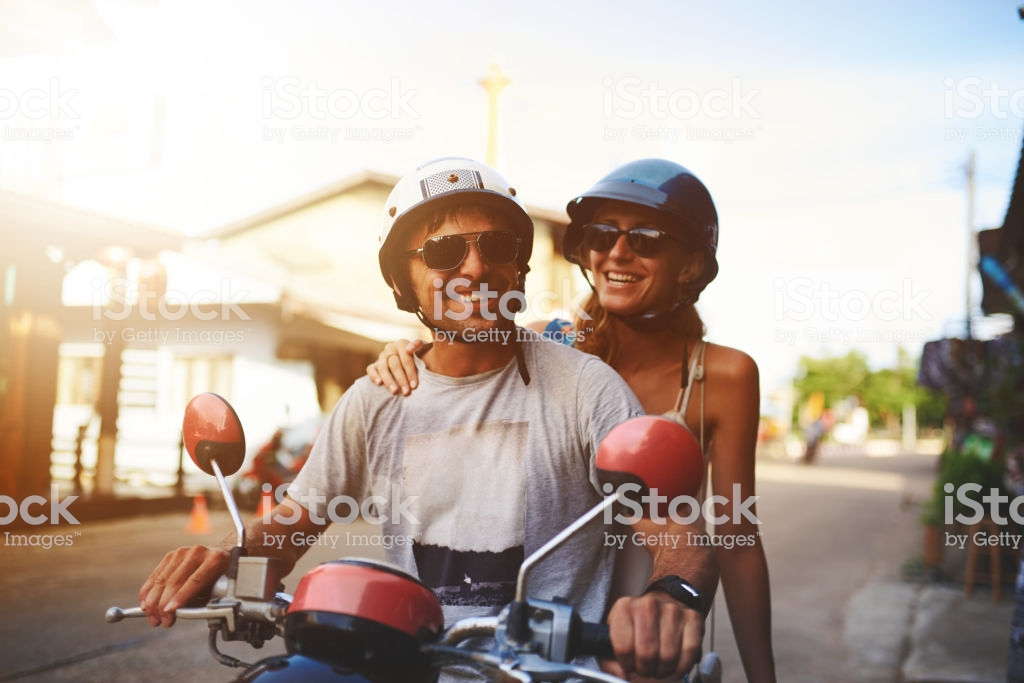helmet: (584, 148, 727, 267), (373, 153, 534, 256)
